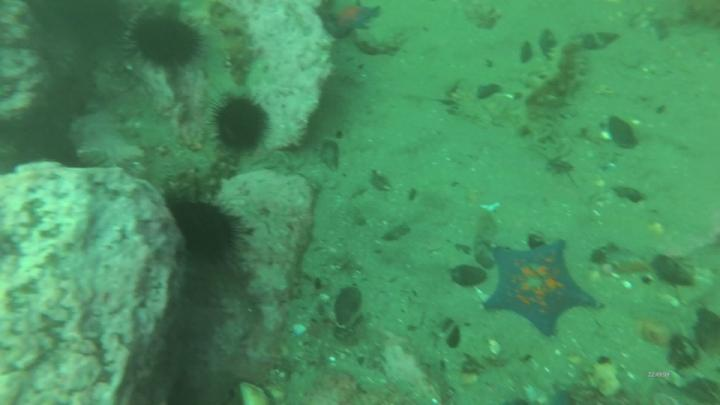echinus: (169, 199, 245, 272), (126, 12, 202, 76), (207, 91, 272, 157)
holothurian: (514, 41, 586, 110), (201, 1, 255, 86)
starfish: (483, 238, 607, 341), (326, 1, 384, 38)
